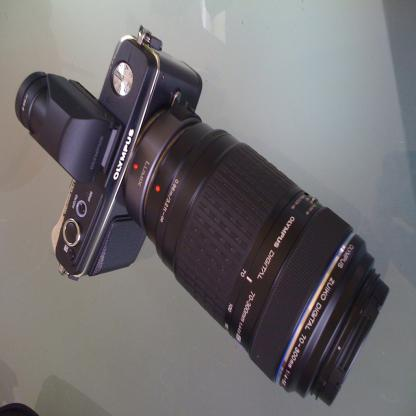Camera: (16, 25, 390, 412)
